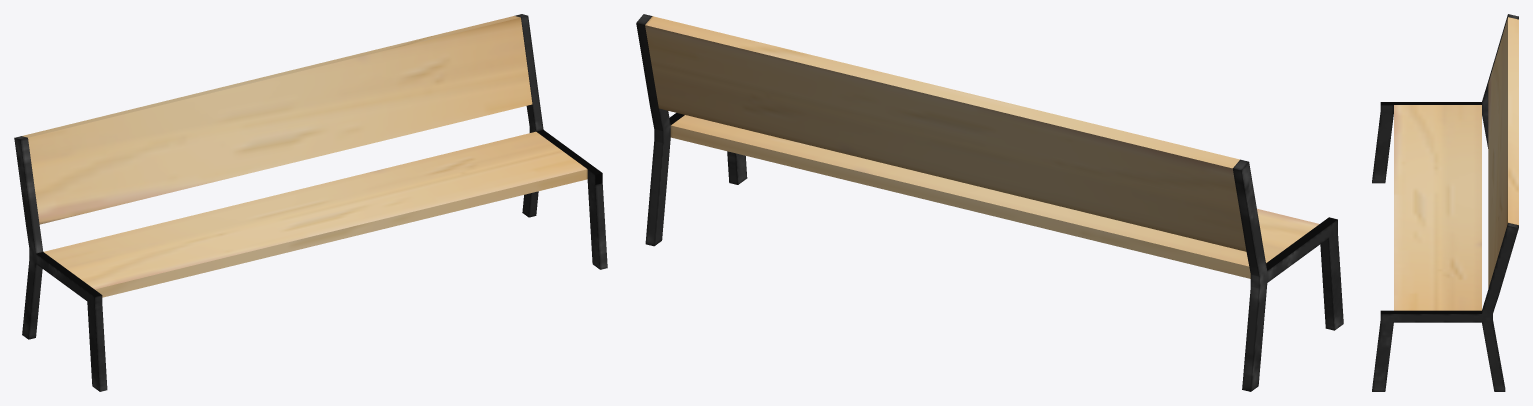
File: Lavochka_02.FBX
The picture shows the model from 3 angles, left to right: view 1: azimuth 30°, elevation 25°; view 2: azimuth 150°, elevation 25°; view 3: azimuth 270°, elevation 25°; orthographic projection. The views are drawn at different scales.
Visible parts, largest first — view 1: Box028, Object005; view 2: Box028, Object005; view 3: Object005, Box028.
Part boxes in pixels (<box>): Box028: <box>14,89,365,391</box>; Object005: <box>214,14,607,269</box>; Box028: <box>874,103,1343,391</box>; Object005: <box>636,14,1010,246</box>; Object005: <box>1372,97,1518,391</box>; Box028: <box>1372,14,1518,239</box>.
Bounding box in the file's own units: 413 × 151 × 121.
